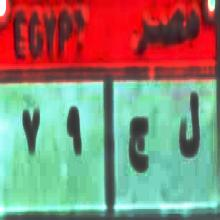7: (21, 92, 43, 165)
9: (64, 102, 86, 164)
jeem: (123, 110, 152, 180)
laam: (176, 92, 204, 159)
